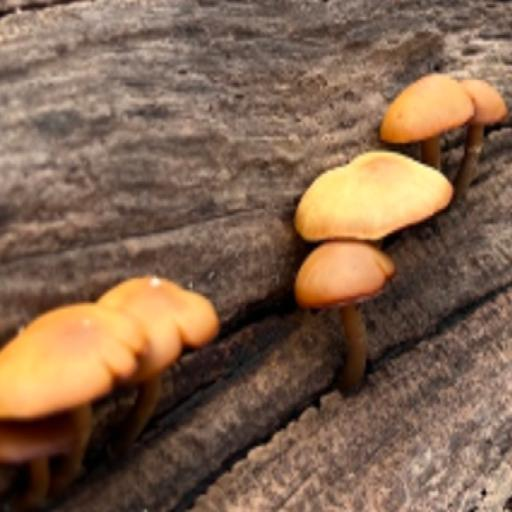mushroom: (290, 52, 501, 339), (4, 262, 221, 456)
